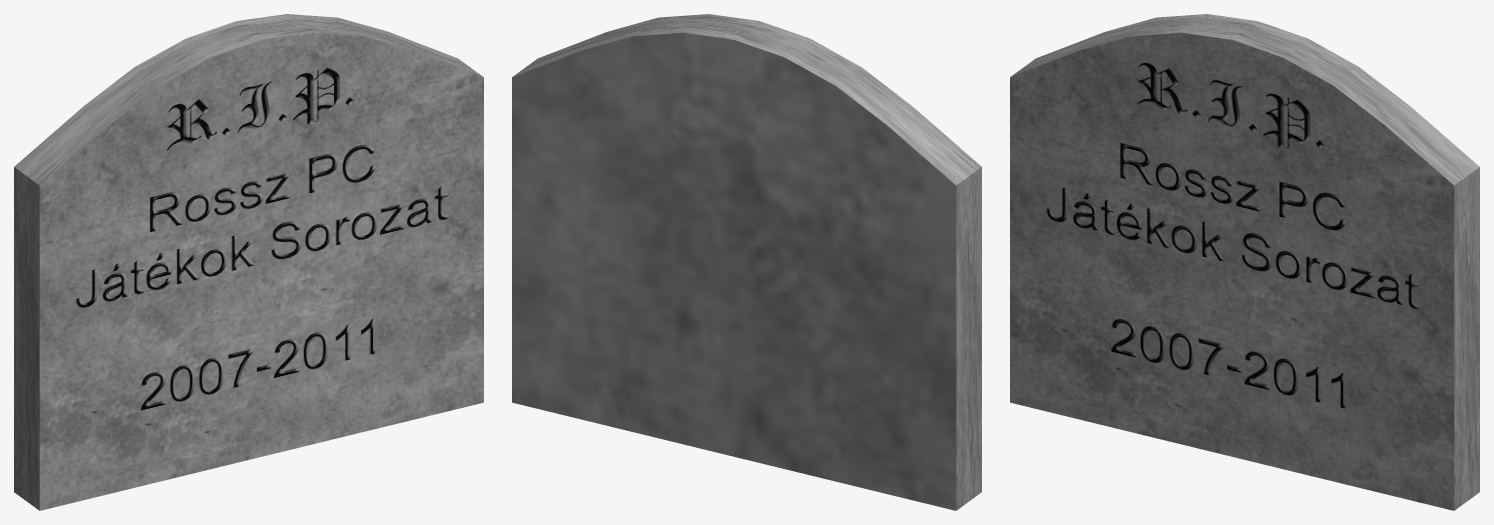
The model's file is rpcjgrave.FBX.
The picture shows the model from 3 angles, left to right: view 1: azimuth 30°, elevation 25°; view 2: azimuth 150°, elevation 25°; view 3: azimuth 330°, elevation 25°; orthographic projection.
Parts seen in each view (by area): view 1: gravestone; view 2: gravestone; view 3: gravestone.
Boxes of the visible parts, box(x1,y1,x2,y2) form: gravestone: box(14, 14, 483, 510); gravestone: box(512, 14, 981, 510); gravestone: box(1010, 14, 1479, 510).
Bounding box in the file's own units: 5 × 0.5 × 4.49.
